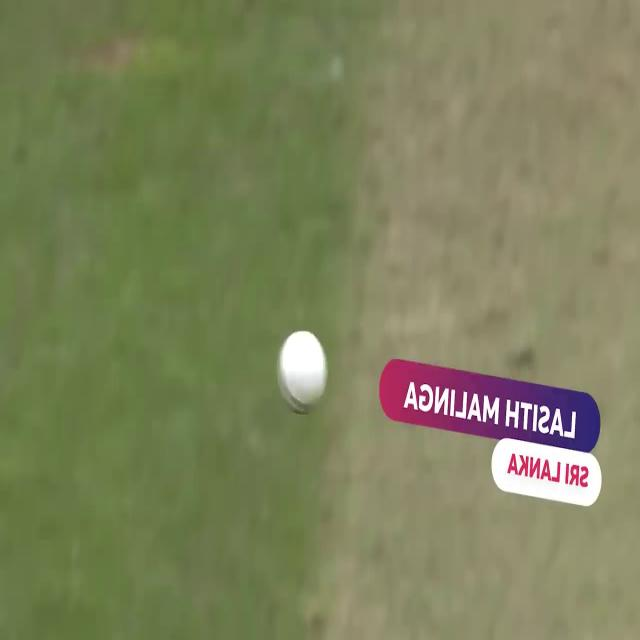ball: (274, 324, 336, 423)
